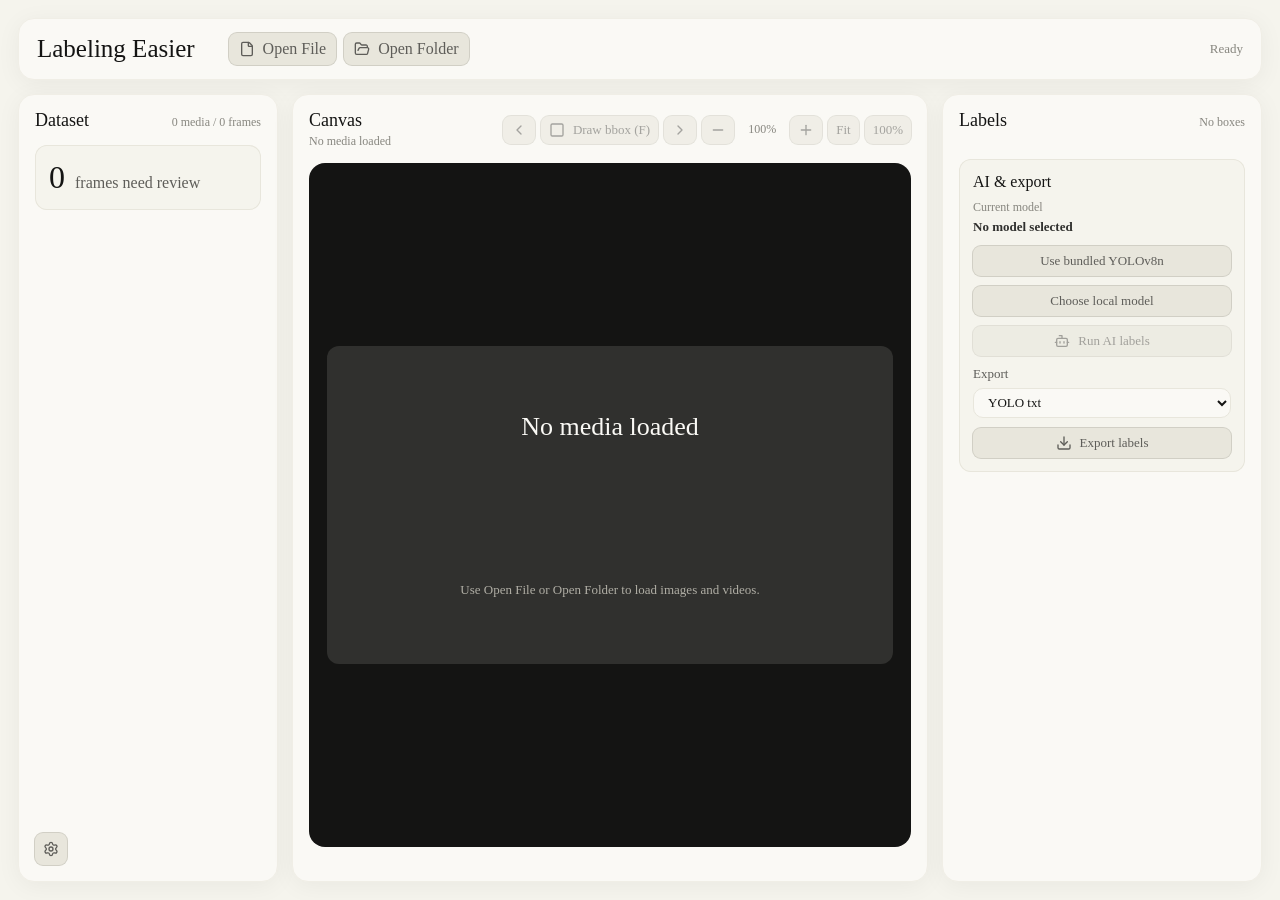
Test case: Labeling Easier editor shell › opens settings, switches language, and persists Chinese UI labels
Step 1. Click the button named "Settings" → (51, 849), box [35, 833, 67, 865]
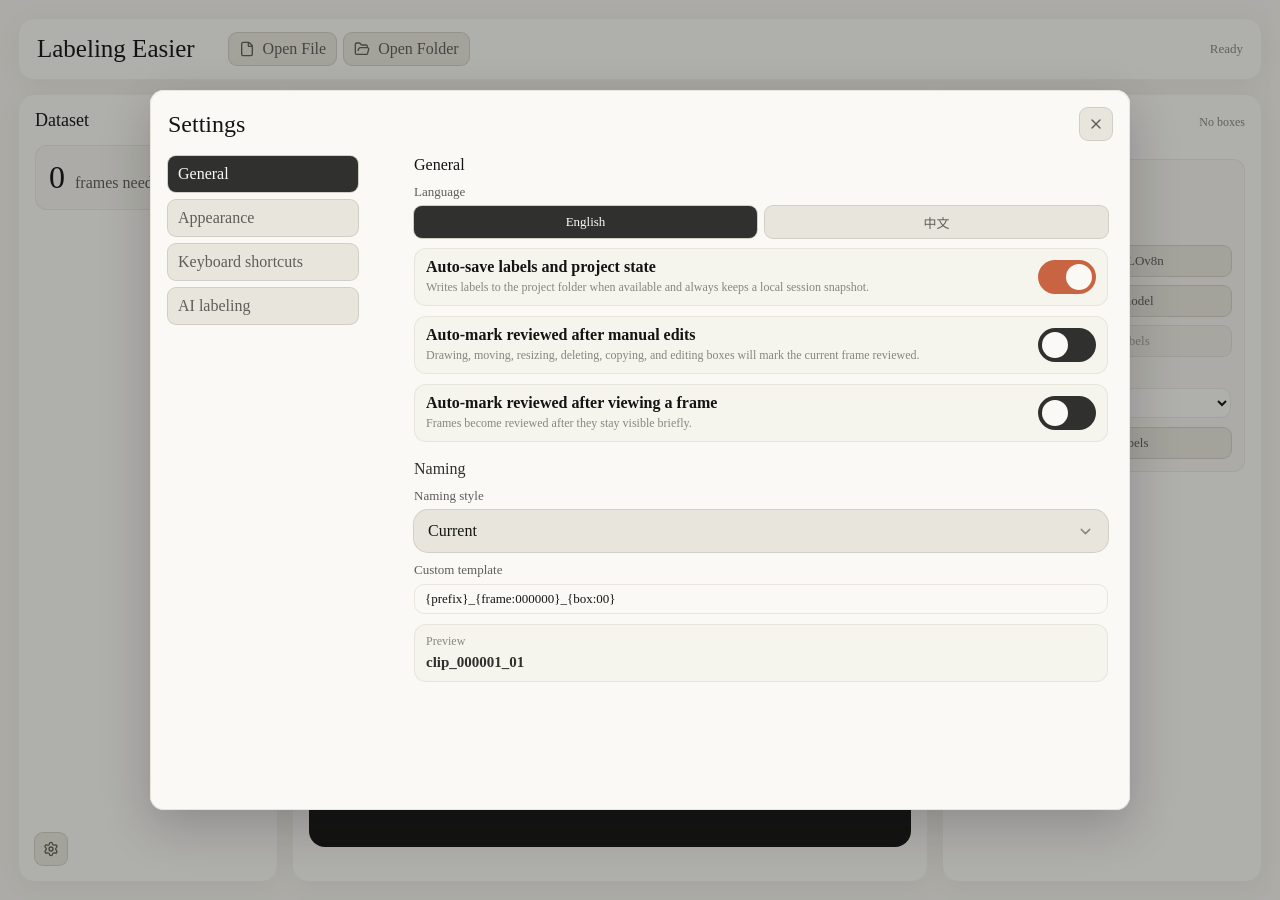
Expected: the dialog "Settings" is shown
Step 2. Click the button "中文" → (936, 222), box [765, 206, 1108, 238]
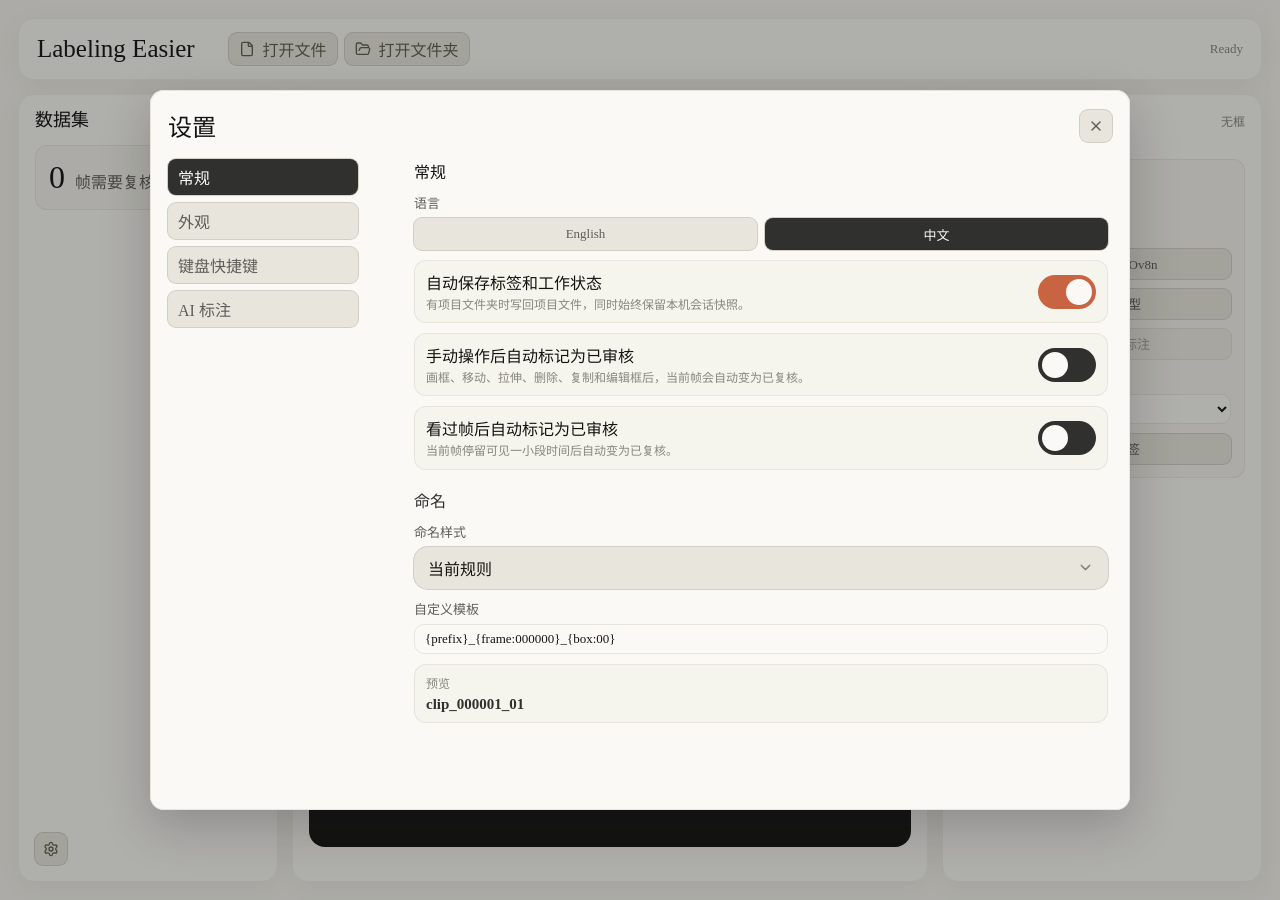
Expected: the dialog "设置" is shown
Expected: the button "打开文件" is shown, [229, 33, 337, 65]
Expected: the button "打开文件夹" is shown, [345, 33, 469, 65]
